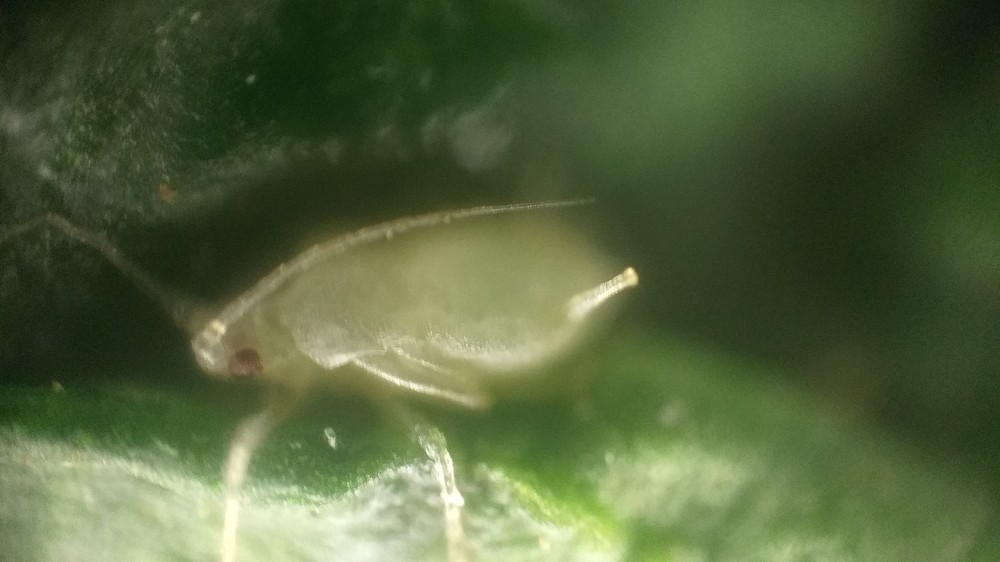Pulgon: (64, 150, 709, 560)
